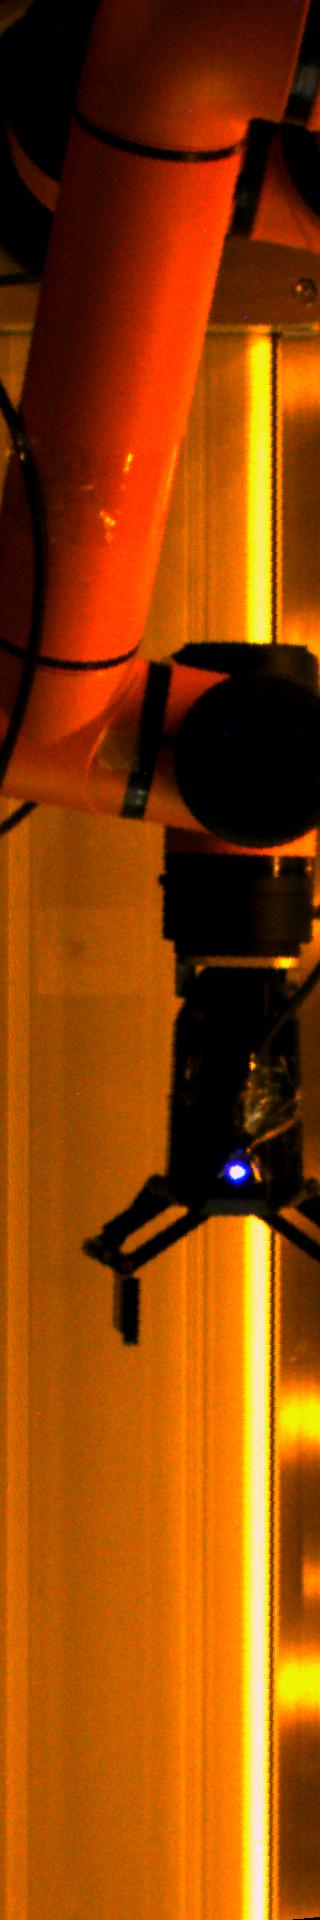keyPoint_1: (222, 1153, 253, 1184)
